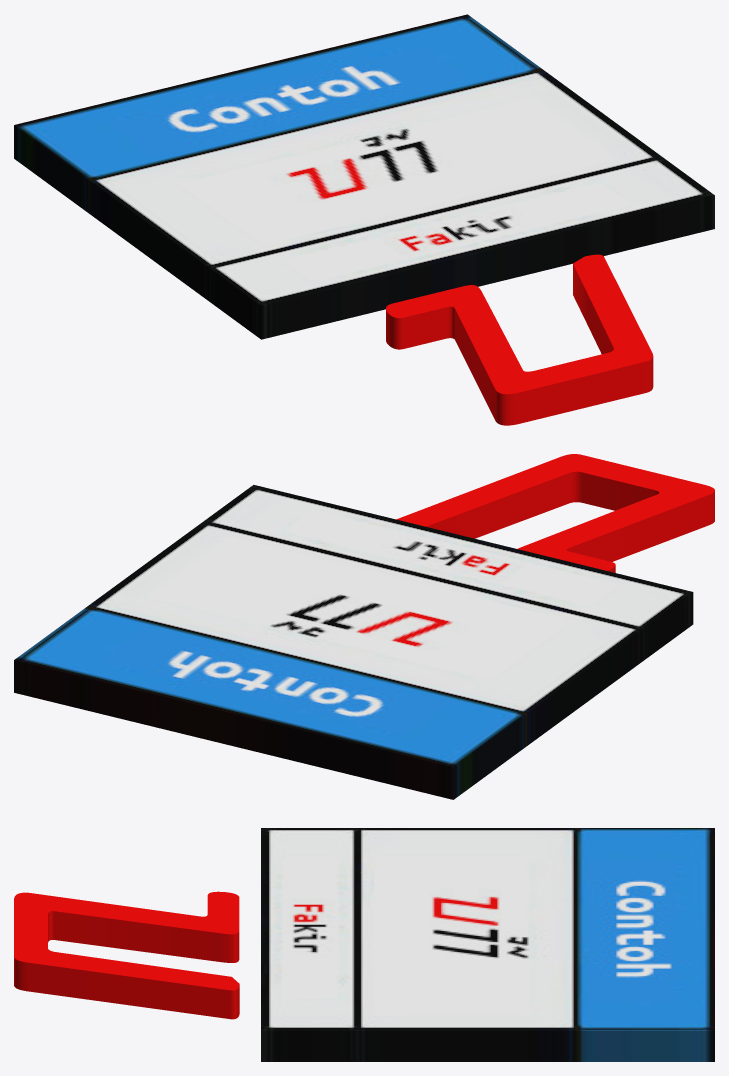
The picture shows the model from 3 angles, top to bottom: view 1: azimuth 30°, elevation 25°; view 2: azimuth 150°, elevation 25°; view 3: azimuth 270°, elevation 25°; orthographic projection. The views are drawn at different scales.
Visible parts, largest first — view 1: contoh-bunyi-huruf-fa-Ngalagena, Text; view 2: contoh-bunyi-huruf-fa-Ngalagena, Text; view 3: contoh-bunyi-huruf-fa-Ngalagena, Text.
Part boxes in pixels (bbox=[...]): contoh-bunyi-huruf-fa-Ngalagena: bbox=[14, 14, 714, 339]; Text: bbox=[386, 254, 653, 425]; contoh-bunyi-huruf-fa-Ngalagena: bbox=[14, 485, 693, 799]; Text: bbox=[396, 454, 714, 572]; contoh-bunyi-huruf-fa-Ngalagena: bbox=[261, 828, 714, 1061]; Text: bbox=[14, 891, 239, 1019].
Size of the model in its own units: 106 by 11 by 154.
